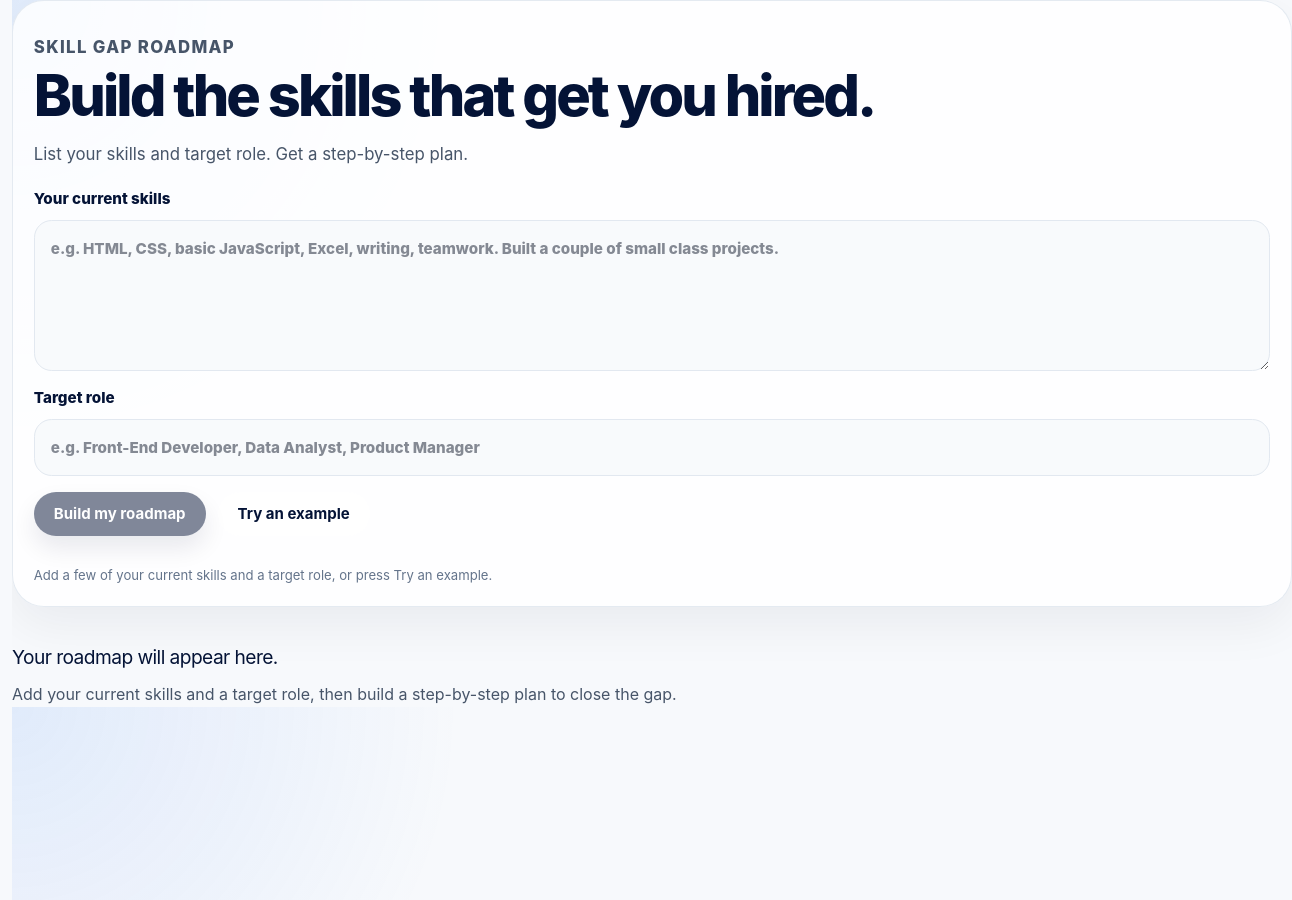
Test: SkillGapClient › shows a loading state while the request is in flight
Type "HTML, CSS, basic JavaScript" into the text box with placeholder "HTML, CSS, basic JavaScript".
click(652, 295); type("HTML, CSS, basic JavaScript")  # box [34,220,1270,371]
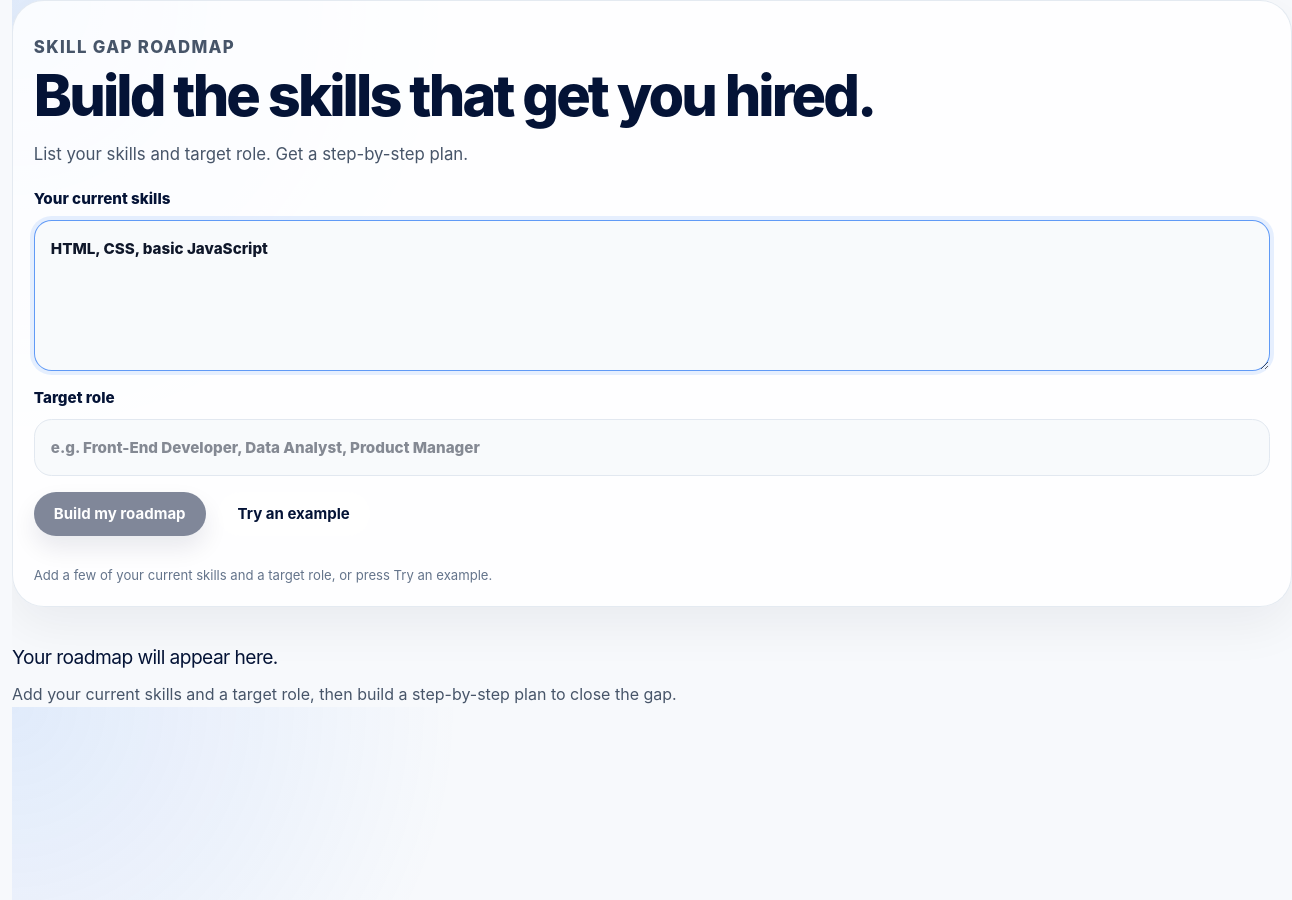
Type "Front-End Developer" into the field with placeholder "e.g. Front-End Developer, Data Analyst, Product Manager".
click(652, 448); type("Front-End Developer")  # box [34,419,1270,476]
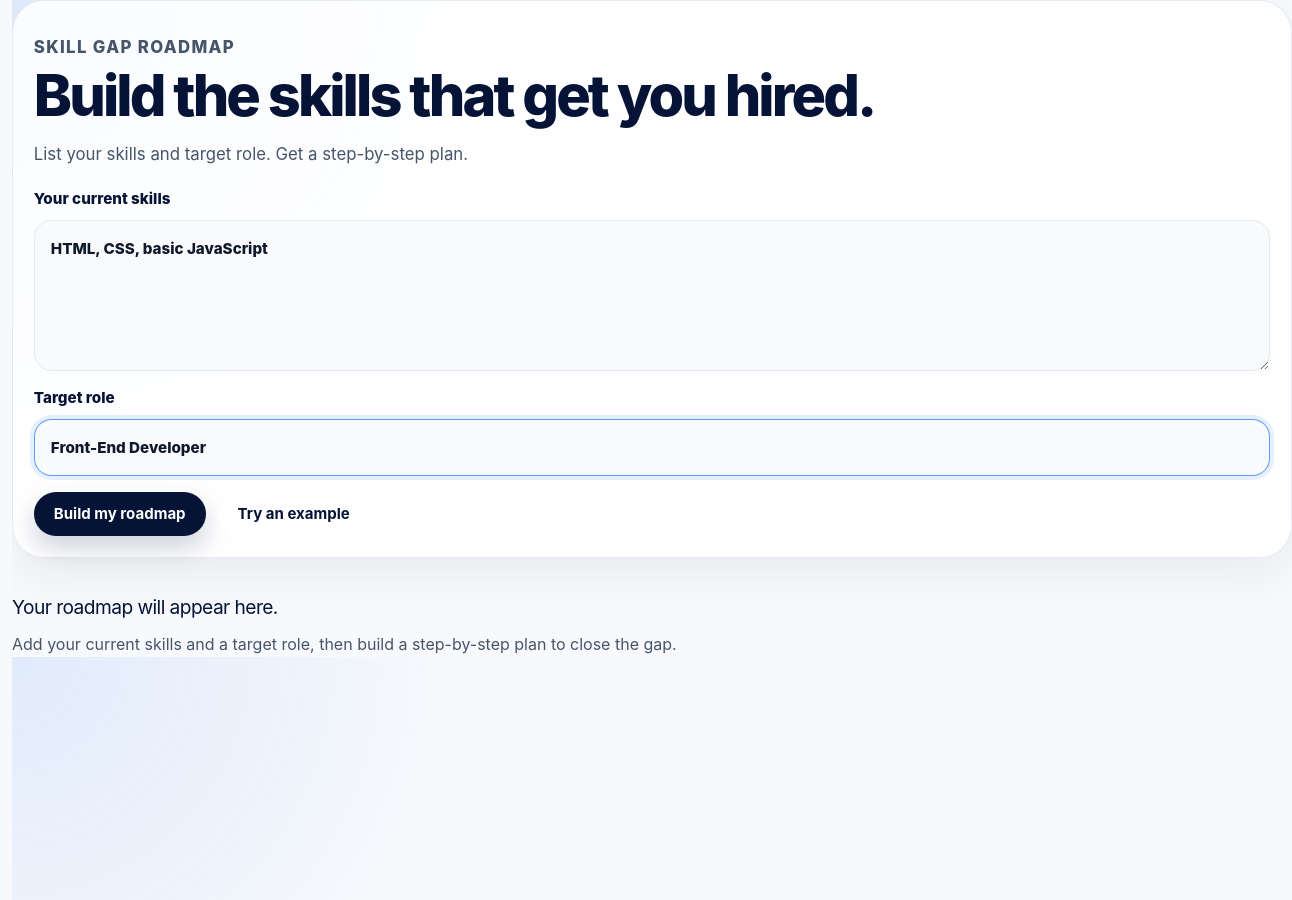
Click the button "Build my roadmap".
click(120, 514)  # box [34,492,206,536]
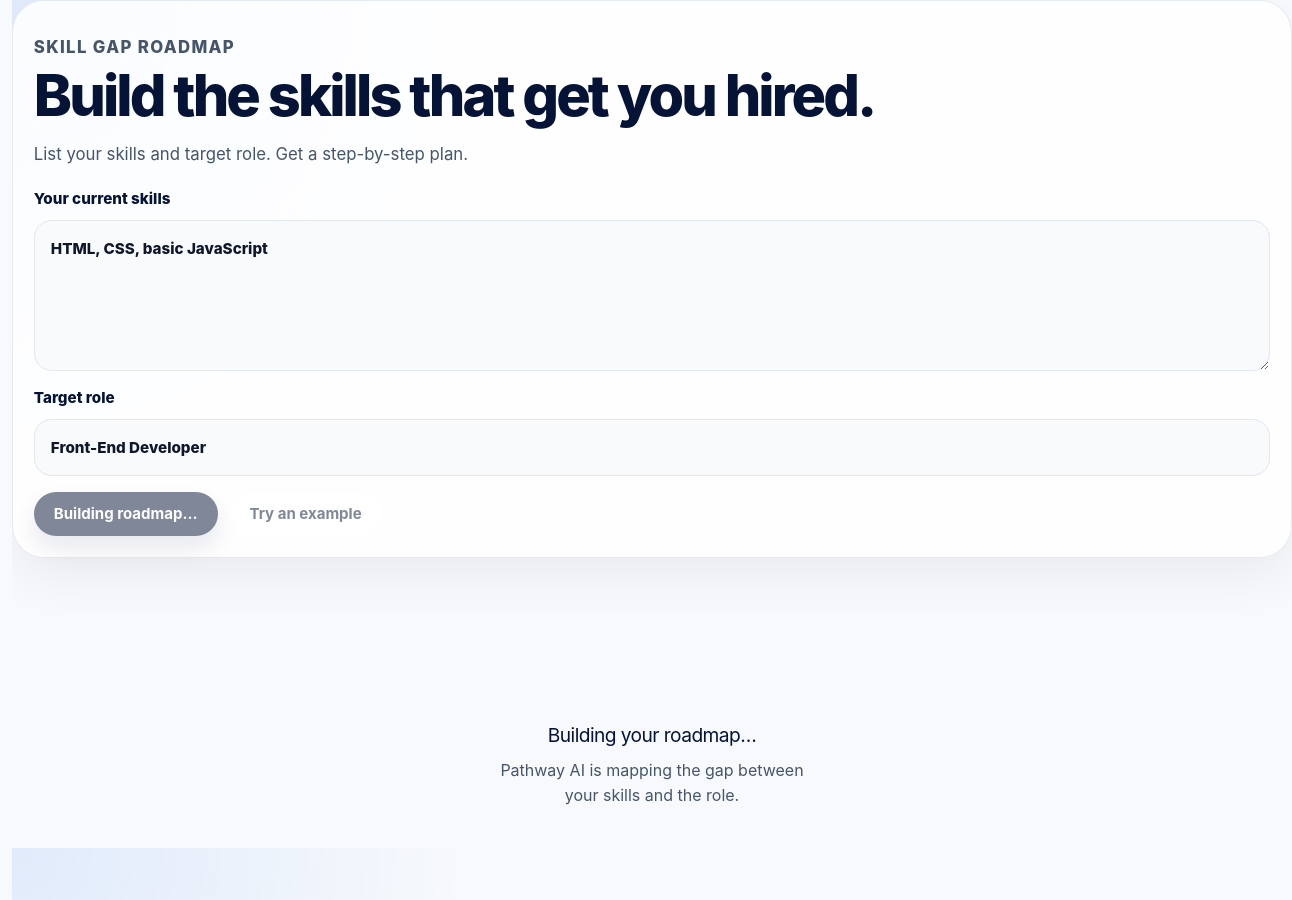
Now the heading "Building your roadmap…" is shown, box [548,721,756,750]
Now the button "Building roadmap…" is disabled, box [34,492,218,536]
